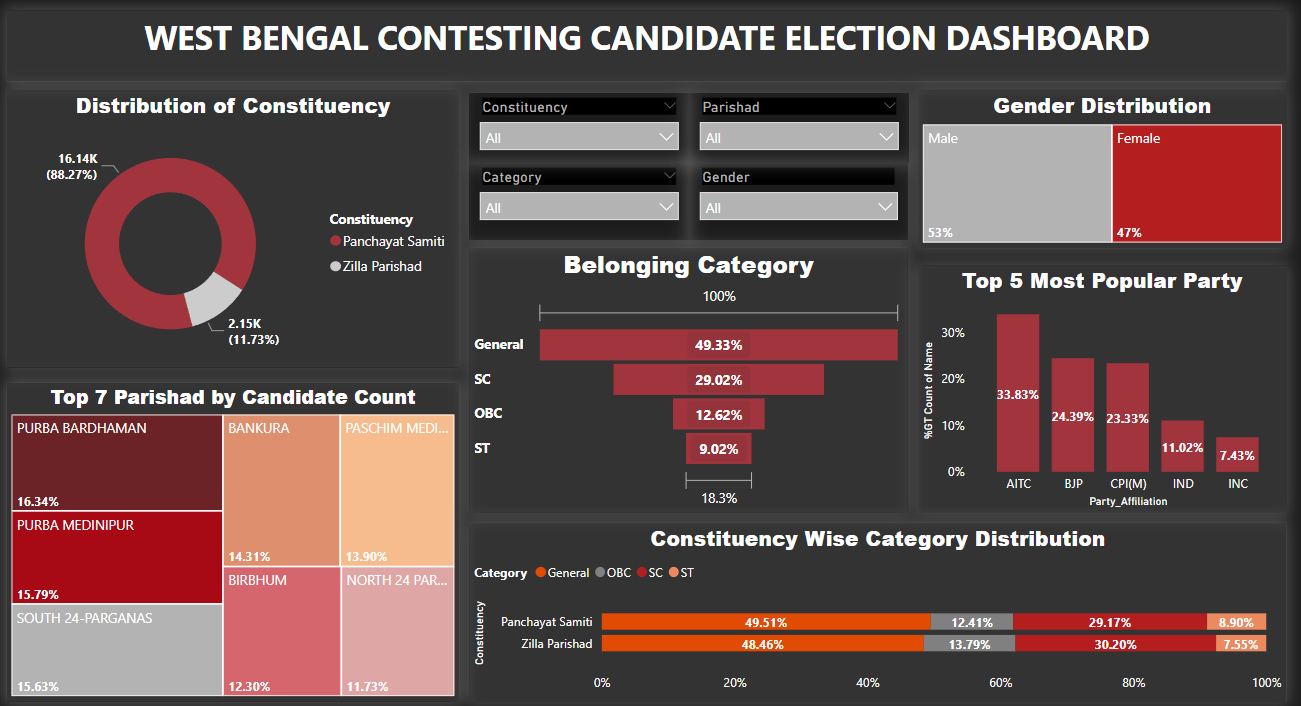

What the dashboard file says about the page in this screenshot:
{"tool":"powerbi","page":{"name":"Dashboard","canvas":[1280,720],"ordinal":0},"visuals":[{"type":"treemap","title":"Gender Distribution","fields":{"Group":["data1.Gender"],"Values":["Divide(CountNonNull(data1.Name), ScopedEval(CountNonNull(data1.Name), []))"]},"box":[899.7,89.2,360.6,154],"z":0},{"type":"columnChart","title":"Top 5 Most Popular Party","fields":{"Category":["data1.Party_Affiliation"],"Y":["CountNonNull(data1.Name)"]},"box":[899.7,260.4,360.6,242],"z":1000},{"type":"funnel","title":"Belonging Category ","fields":{"Category":["data1.Category"],"Y":["CountNonNull(data1.Name)"]},"box":[460.8,89.2,421.7,413.2],"z":2000},{"type":"textbox","box":[23.2,15.9,1223.6,59.9],"z":3000},{"type":"donutChart","title":"Distribution of Constituency","fields":{"Y":["CountNonNull(data1.Name)"],"Category":["data1.Constituency"]},"box":[7.3,100.2,431.5,251.8],"z":4000},{"type":"treemap","title":"Top 7 Parishad by Candidate Count","fields":{"Group":["data1.Parishad"],"Values":["CountNonNull(data1.Name)"]},"box":[8.6,381.4,431.5,311.7],"z":5000},{"type":"hundredPercentStackedBarChart","title":"Constituency Wise Category Distribution","fields":{"Category":["data1.Constituency"],"Y":["CountNonNull(data1.Name)"],"Series":["data1.Category"]},"box":[460.8,512.2,799.5,174.8],"z":6000}]}

Visuals, with their boxes on the page's 1280x720 design canvas (x1, y1, x2, y2). These are canvas units, not pixel positions in the 1301x706 screenshot, which may show the page scaled, cropped or inside an application window:
"Gender Distribution" treemap: <region>900, 89, 1260, 243</region>
"Top 5 Most Popular Party" columnChart: <region>900, 260, 1260, 502</region>
"Belonging Category " funnel: <region>461, 89, 882, 502</region>
textbox: <region>23, 16, 1247, 76</region>
"Distribution of Constituency" donutChart: <region>7, 100, 439, 352</region>
"Top 7 Parishad by Candidate Count" treemap: <region>9, 381, 440, 693</region>
"Constituency Wise Category Distribution" hundredPercentStackedBarChart: <region>461, 512, 1260, 687</region>
